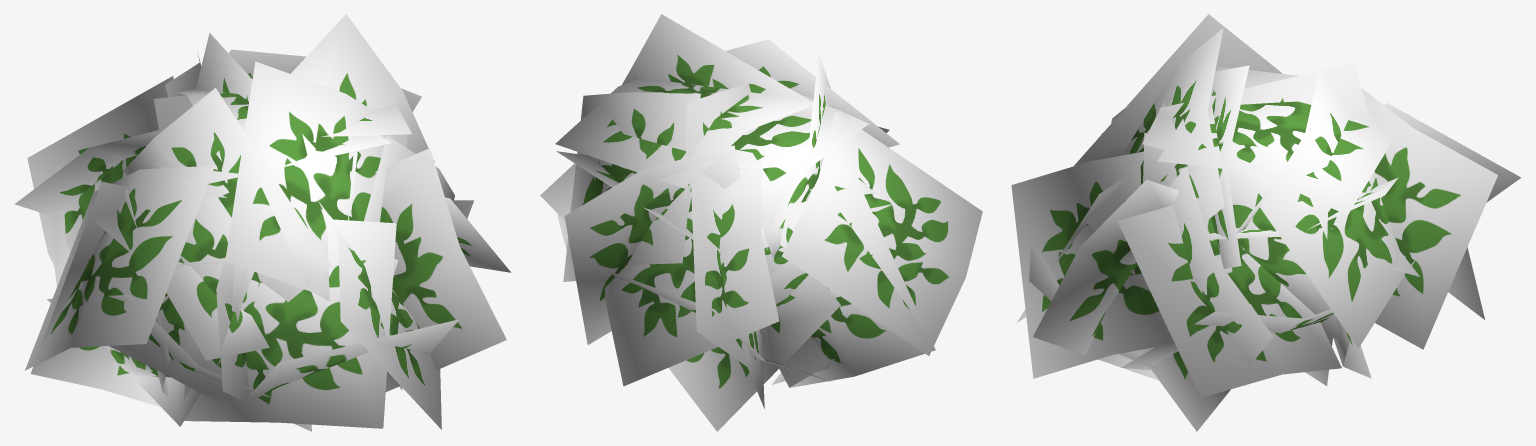
Rendered from Bush.fbx.
The picture shows the model from 3 angles, left to right: view 1: azimuth 30°, elevation 25°; view 2: azimuth 150°, elevation 25°; view 3: azimuth 270°, elevation 25°; orthographic projection. The views are drawn at different scales.
Visible parts, largest first — view 1: Tree 2.017; view 2: Tree 2.017; view 3: Tree 2.017.
Boxes of the visible parts, bbox=[...] form: Tree 2.017: bbox=[14, 14, 511, 431]; Tree 2.017: bbox=[540, 14, 982, 431]; Tree 2.017: bbox=[1011, 14, 1521, 431].
Bounding box in the file's own units: 702 × 573 × 712.
